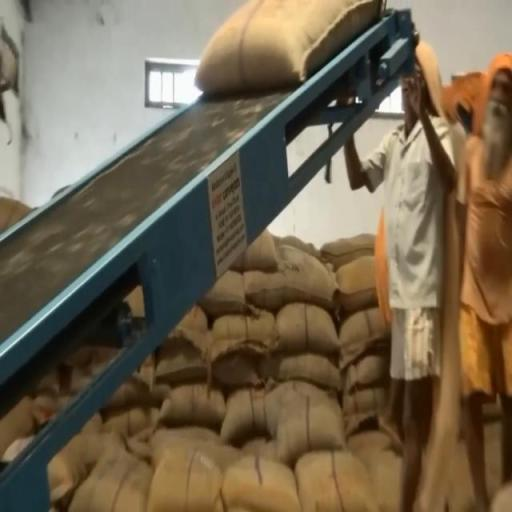c-belt-sack-count: (196, 0, 378, 94)
